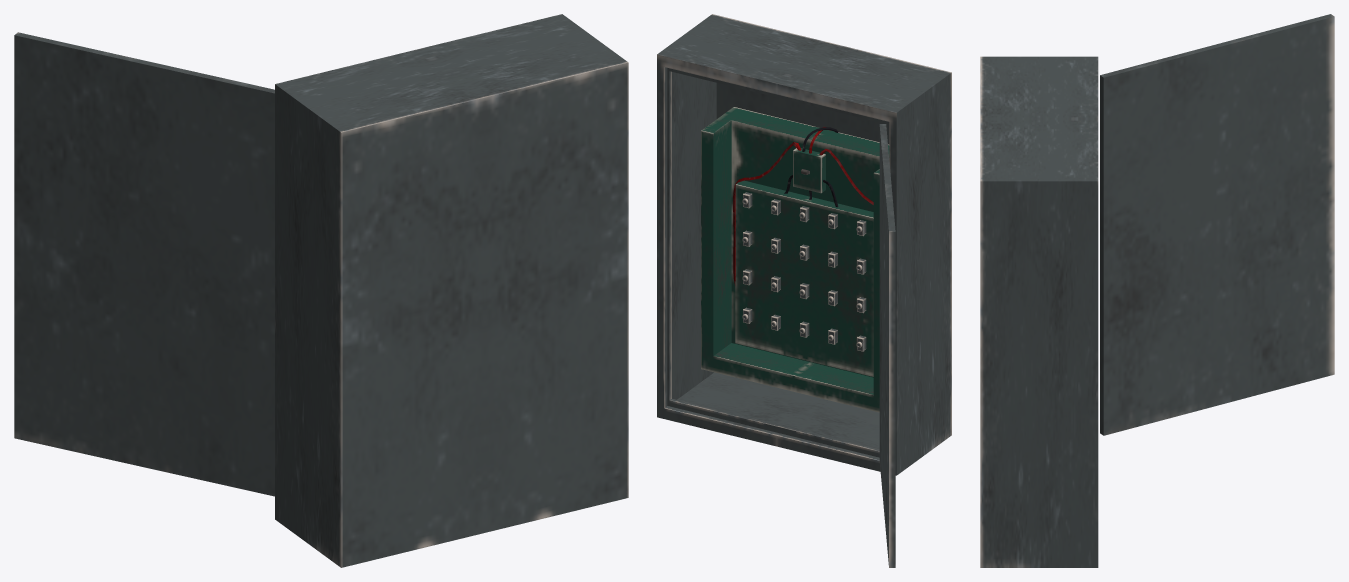
Rendered from Fuse box_final2.fbx.
3 renders of one model, left to right at view 1: azimuth 30°, elevation 25°; view 2: azimuth 150°, elevation 25°; view 3: azimuth 270°, elevation 25°, orthographic. The views are drawn at different scales.
Visible parts, largest first — view 1: Caixa, Porta; view 2: Caixa, Porta; view 3: Porta, Caixa.
Boxes of the visible parts, x1=… form: Caixa: x1=275, y1=14, x2=628, y2=567; Porta: x1=14, y1=32, x2=274, y2=496; Caixa: x1=657, y1=14, x2=951, y2=475; Porta: x1=879, y1=124, x2=895, y2=567; Porta: x1=1100, y1=14, x2=1334, y2=435; Caixa: x1=980, y1=56, x2=1098, y2=567.
Size of the model in its own units: 70.34 by 70.16 by 58.22.
